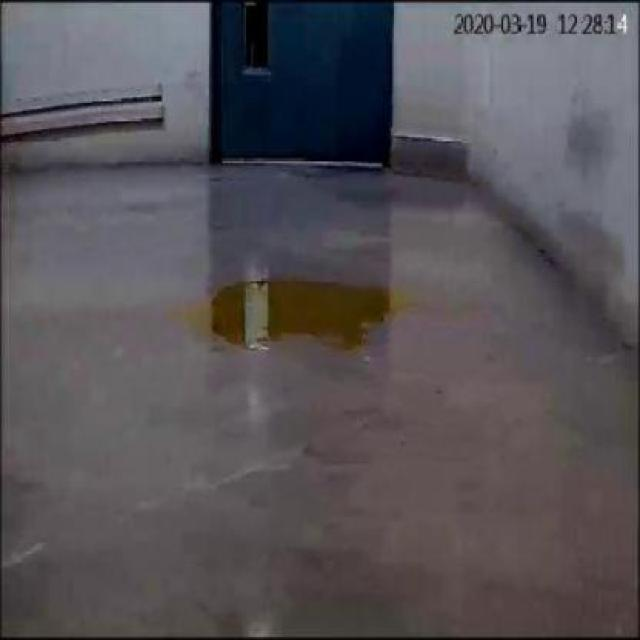spillage: (210, 278, 391, 349)
